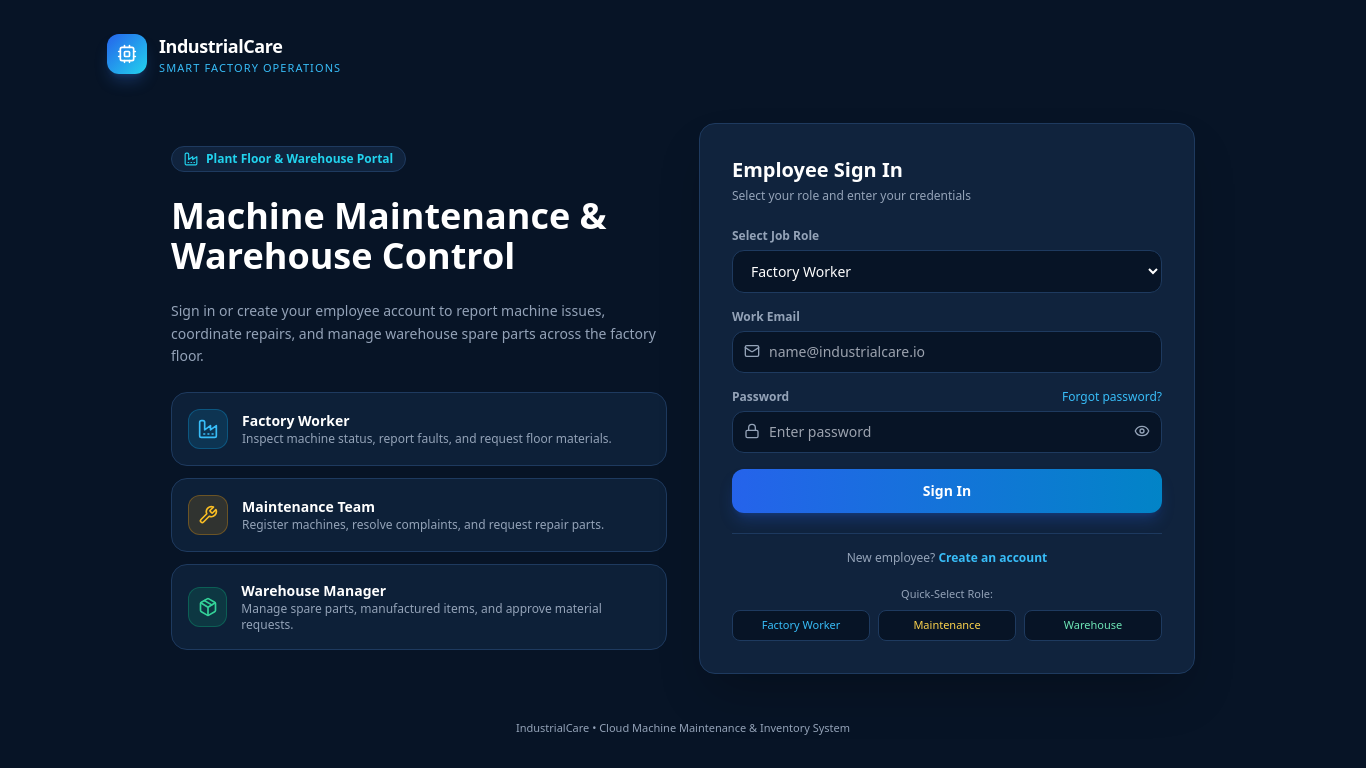
Test: startup + authentication UI › sign-up locks the role to Factory Worker
Click the button "Create an account" at (993, 558), box [938,550,1047,566]
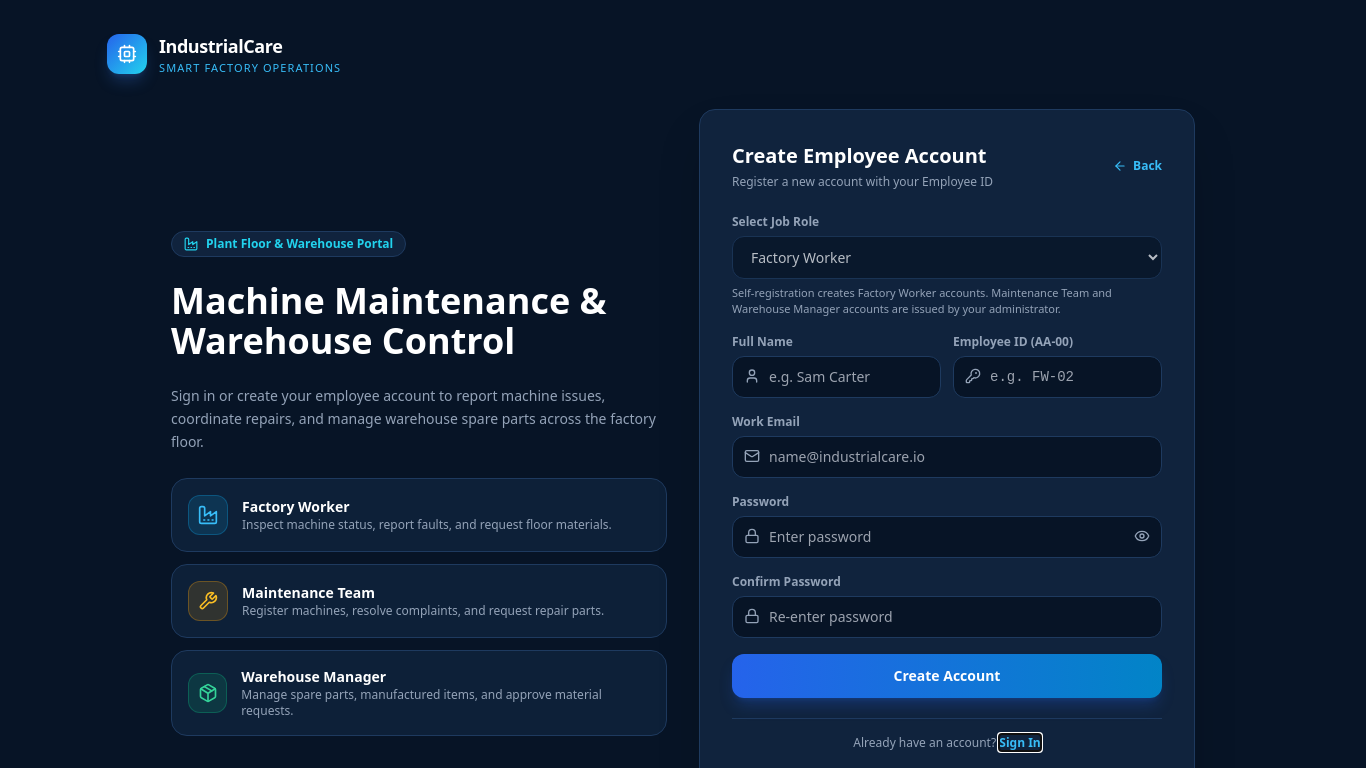
Expected: the dropdown shows "Factory Worker", [732,236,1162,278]
Result: the dropdown is disabled at [732,236,1162,278]
Result: the text "Maintenance Team and Warehouse" is shown at [732,284,1112,316]
